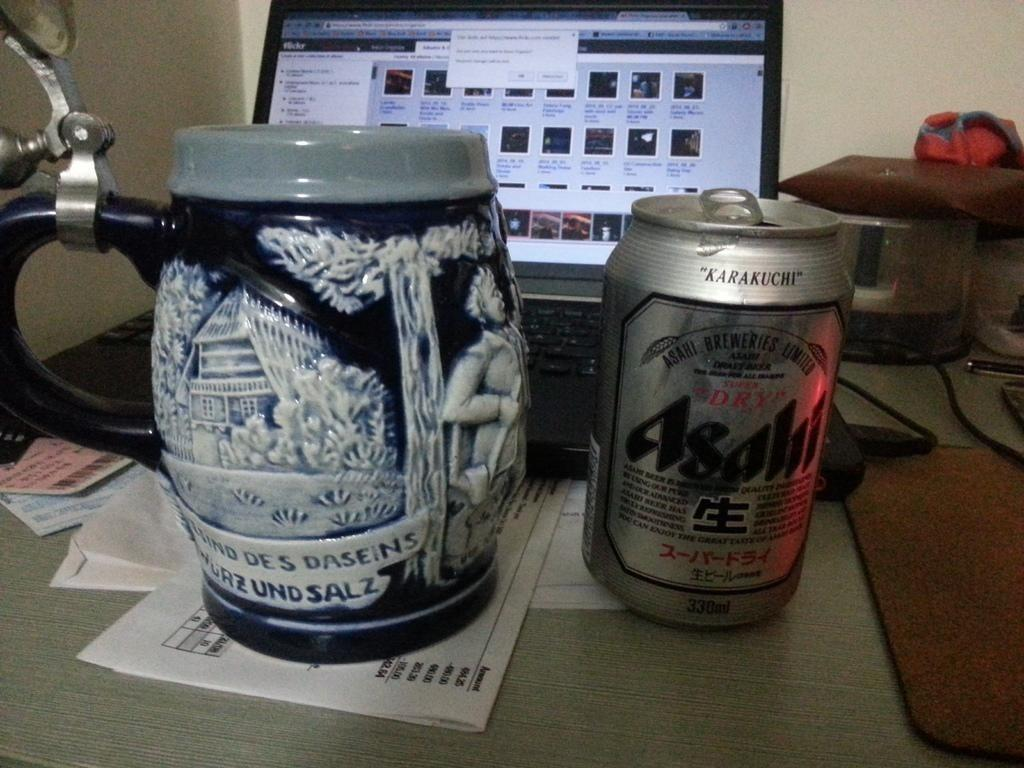tin can: (579, 188, 856, 633)
